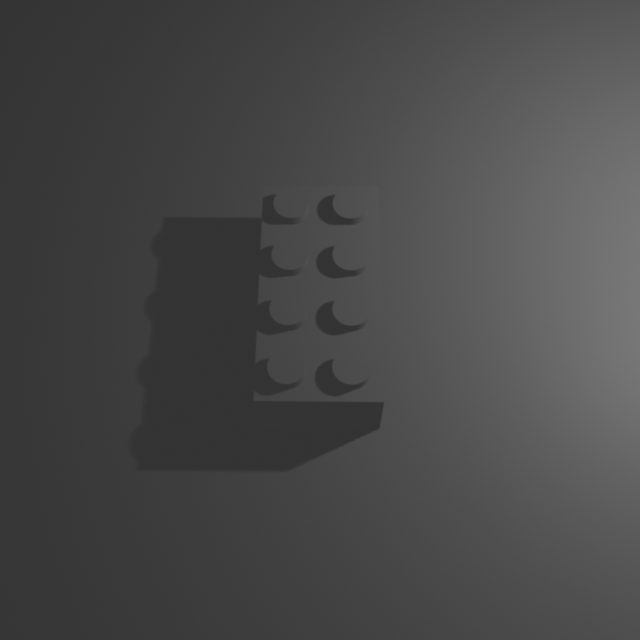lego_2x4: (253, 178, 385, 429)
